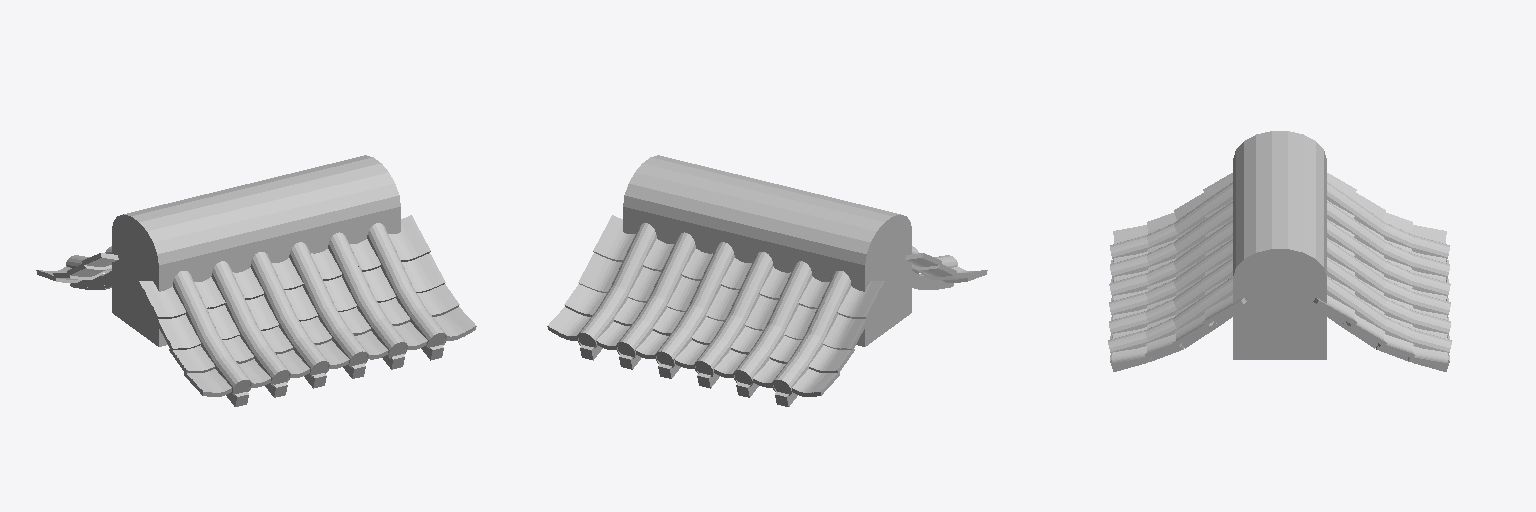
File: Clipped Roof.obj
3 renders of one model, left to right at view 1: azimuth 30°, elevation 25°; view 2: azimuth 150°, elevation 25°; view 3: azimuth 270°, elevation 25°, orthographic.
Parts seen in each view (by area): view 1: Clipped_Roof:FlowerPl11 Clipped_Roof:polySurface8343 Clipped_Roo, Clipped_Roof:FlowerPl11 Clipped_Roof:polySurface6975 Clipped_Roo, Clipped_Roof:FlowerPl11 Clipped_Roof:polySurface6977 Clipped_Roo, Clipped_Roof:FlowerPl11 Clipped_Roof:polySurface6976 Clipped_Roo, Clipped_Roof:FlowerPl11 Clipped_Roof:polySurface6978 Clipped_Roo, Clipped_Roof:FlowerPl11 Clipped_Roof:polySurface6697 Clipped_Roo, Clipped_Roof:FlowerPl11 Clipped_Roof:polySurface6707 Clipped_Roo, Clipped_Roof:FlowerPl11 Clipped_Roof:polySurface6727 Clipped_Roo, Clipped_Roof:FlowerPl11 Clipped_Roof:polySurface6717 Clipped_Roo, Clipped_Roof:FlowerPl11 Clipped_Roof:polySurface6832 Clipped_Roo, Clipped_Roof:FlowerPl11 Clipped_Roof:polySurface6835 Clipped_Roo, Clipped_Roof:FlowerPl11 Clipped_Roof:polySurface6831 Clipped_Roo (+28 smaller); view 2: Clipped_Roof:FlowerPl11 Clipped_Roof:polySurface8343 Clipped_Roo, Clipped_Roof:FlowerPl11 Clipped_Roof:polySurface6975 Clipped_Roo, Clipped_Roof:FlowerPl11 Clipped_Roof:polySurface6977 Clipped_Roo, Clipped_Roof:FlowerPl11 Clipped_Roof:polySurface6976 Clipped_Roo, Clipped_Roof:FlowerPl11 Clipped_Roof:polySurface6978 Clipped_Roo, Clipped_Roof:FlowerPl11 Clipped_Roof:polySurface6744 Clipped_Roo, Clipped_Roof:FlowerPl11 Clipped_Roof:polySurface6754 Clipped_Roo, Clipped_Roof:FlowerPl11 Clipped_Roof:polySurface6774 Clipped_Roo, Clipped_Roof:FlowerPl11 Clipped_Roof:polySurface6764 Clipped_Roo, Clipped_Roof:FlowerPl11 Clipped_Roof:polySurface6845 Clipped_Roo, Clipped_Roof:FlowerPl11 Clipped_Roof:polySurface6842 Clipped_Roo, Clipped_Roof:FlowerPl11 Clipped_Roof:polySurface6846 Clipped_Roo (+28 smaller); view 3: Clipped_Roof:FlowerPl11 Clipped_Roof:polySurface6975 Clipped_Roo, Clipped_Roof:FlowerPl11 Clipped_Roof:polySurface6978 Clipped_Roo, Clipped_Roof:FlowerPl11 Clipped_Roof:polySurface6976 Clipped_Roo, Clipped_Roof:FlowerPl11 Clipped_Roof:polySurface6977 Clipped_Roo, Clipped_Roof:FlowerPl11 Clipped_Roof:polySurface8343 Clipped_Roo, Clipped_Roof:FlowerPl11 Clipped_Roof:polySurface6835 Clipped_Roo, Clipped_Roof:FlowerPl11 Clipped_Roof:polySurface6842 Clipped_Roo, Clipped_Roof:FlowerPl11 Clipped_Roof:polySurface6845 Clipped_Roo, Clipped_Roof:FlowerPl11 Clipped_Roof:polySurface6832 Clipped_Roo, Clipped_Roof:FlowerPl11 Clipped_Roof:polySurface6833 Clipped_Roo, Clipped_Roof:FlowerPl11 Clipped_Roof:polySurface6844 Clipped_Roo, Clipped_Roof:FlowerPl11 Clipped_Roof:polySurface6843 Clipped_Roo (+5 smaller).
Boxes of the visible parts, <box> form: Clipped_Roof:FlowerPl11 Clipped_Roof:polySurface8343 Clipped_Roo: <box>112,200,217,346</box>; Clipped_Roof:FlowerPl11 Clipped_Roof:polySurface6975 Clipped_Roo: <box>312,155,400,243</box>; Clipped_Roof:FlowerPl11 Clipped_Roof:polySurface6977 Clipped_Roo: <box>203,181,296,271</box>; Clipped_Roof:FlowerPl11 Clipped_Roof:polySurface6976 Clipped_Roo: <box>261,168,348,254</box>; Clipped_Roof:FlowerPl11 Clipped_Roof:polySurface6978 Clipped_Roo: <box>151,195,243,281</box>; Clipped_Roof:FlowerPl11 Clipped_Roof:polySurface6697 Clipped_Roo: <box>388,215,430,261</box>; Clipped_Roof:FlowerPl11 Clipped_Roof:polySurface6707 Clipped_Roo: <box>402,253,445,292</box>; Clipped_Roof:FlowerPl11 Clipped_Roof:polySurface6727 Clipped_Roo: <box>433,307,476,340</box>; Clipped_Roof:FlowerPl11 Clipped_Roof:polySurface6717 Clipped_Roo: <box>417,284,459,316</box>; Clipped_Roof:FlowerPl11 Clipped_Roof:polySurface6832 Clipped_Roo: <box>371,318,407,358</box>; Clipped_Roof:FlowerPl11 Clipped_Roof:polySurface6835 Clipped_Roo: <box>254,346,290,386</box>; Clipped_Roof:FlowerPl11 Clipped_Roof:polySurface6831 Clipped_Roo: <box>410,309,446,348</box>; Clipped_Roof:FlowerPl11 Clipped_Roof:polySurface8343 Clipped_Roo: <box>806,200,911,346</box>; Clipped_Roof:FlowerPl11 Clipped_Roof:polySurface6975 Clipped_Roo: <box>623,155,716,243</box>; Clipped_Roof:FlowerPl11 Clipped_Roof:polySurface6977 Clipped_Roo: <box>727,181,820,272</box>; Clipped_Roof:FlowerPl11 Clipped_Roof:polySurface6976 Clipped_Roo: <box>675,170,769,254</box>; Clipped_Roof:FlowerPl11 Clipped_Roof:polySurface6978 Clipped_Roo: <box>783,195,872,281</box>; Clipped_Roof:FlowerPl11 Clipped_Roof:polySurface6744 Clipped_Roo: <box>593,215,635,261</box>; Clipped_Roof:FlowerPl11 Clipped_Roof:polySurface6754 Clipped_Roo: <box>578,253,621,292</box>; Clipped_Roof:FlowerPl11 Clipped_Roof:polySurface6774 Clipped_Roo: <box>547,307,590,340</box>; Clipped_Roof:FlowerPl11 Clipped_Roof:polySurface6764 Clipped_Roo: <box>564,284,606,316</box>; Clipped_Roof:FlowerPl11 Clipped_Roof:polySurface6845 Clipped_Roo: <box>616,318,652,358</box>; Clipped_Roof:FlowerPl11 Clipped_Roof:polySurface6842 Clipped_Roo: <box>733,346,769,386</box>; Clipped_Roof:FlowerPl11 Clipped_Roof:polySurface6846 Clipped_Roo: <box>577,309,613,348</box>; Clipped_Roof:FlowerPl11 Clipped_Roof:polySurface6975 Clipped_Roo: <box>1233,220,1326,359</box>; Clipped_Roof:FlowerPl11 Clipped_Roof:polySurface6978 Clipped_Roo: <box>1233,144,1326,199</box>; Clipped_Roof:FlowerPl11 Clipped_Roof:polySurface6976 Clipped_Roo: <box>1233,195,1326,246</box>; Clipped_Roof:FlowerPl11 Clipped_Roof:polySurface6977 Clipped_Roo: <box>1233,169,1326,221</box>; Clipped_Roof:FlowerPl11 Clipped_Roof:polySurface8343 Clipped_Roo: <box>1233,131,1326,186</box>; Clipped_Roof:FlowerPl11 Clipped_Roof:polySurface6835 Clipped_Roo: <box>1110,254,1149,281</box>; Clipped_Roof:FlowerPl11 Clipped_Roof:polySurface6842 Clipped_Roo: <box>1410,254,1449,281</box>; Clipped_Roof:FlowerPl11 Clipped_Roof:polySurface6845 Clipped_Roo: <box>1411,311,1450,337</box>; Clipped_Roof:FlowerPl11 Clipped_Roof:polySurface6832 Clipped_Roo: <box>1109,311,1148,337</box>; Clipped_Roof:FlowerPl11 Clipped_Roof:polySurface6833 Clipped_Roo: <box>1109,292,1148,317</box>; Clipped_Roof:FlowerPl11 Clipped_Roof:polySurface6844 Clipped_Roo: <box>1411,292,1450,317</box>; Clipped_Roof:FlowerPl11 Clipped_Roof:polySurface6843 Clipped_Roo: <box>1411,273,1450,300</box>.
Size of the model in its own units: 2.03 by 0.9425 by 2.22.